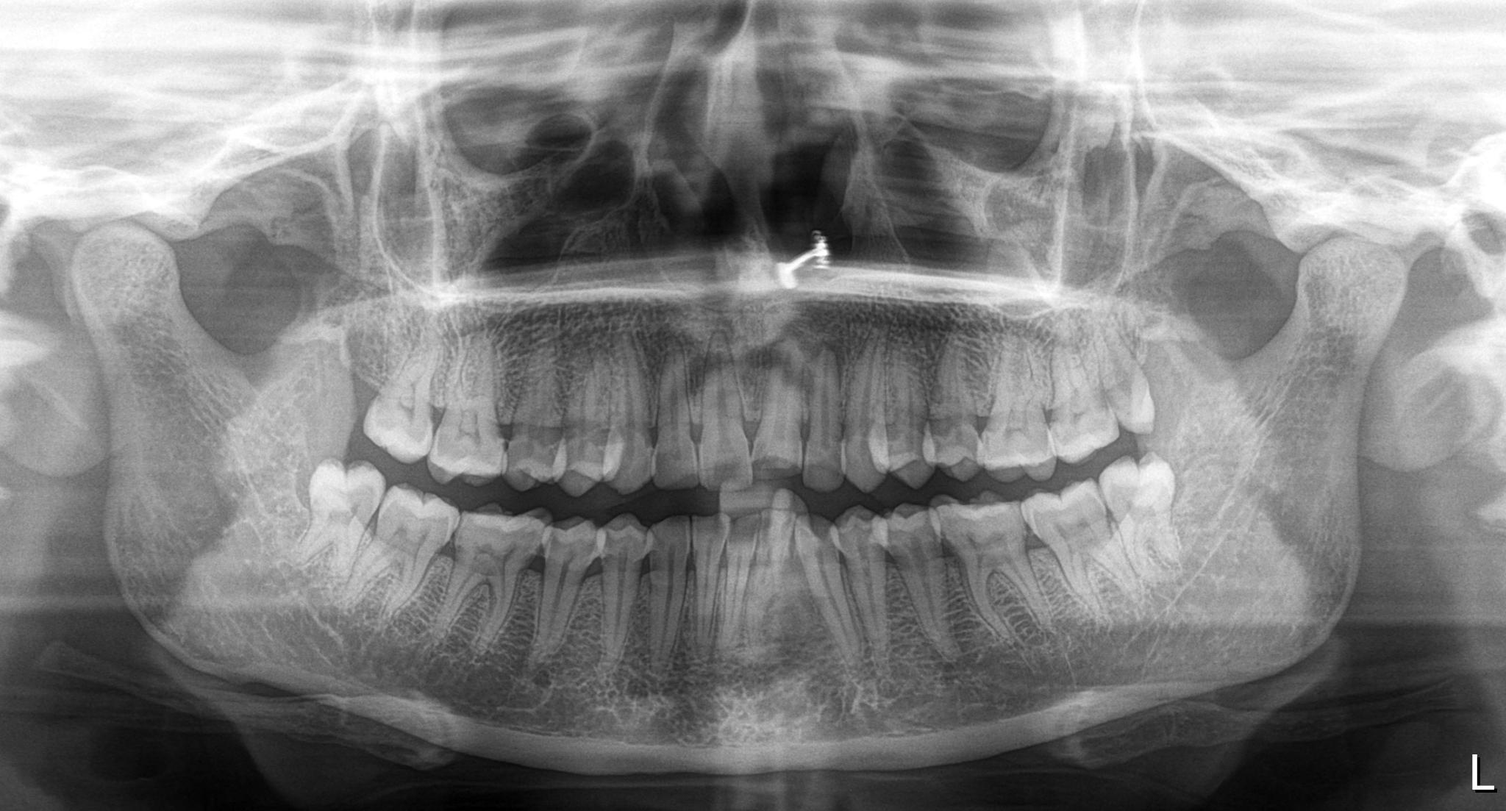Periodontal Pocket: (254, 441, 379, 603), (1088, 460, 1186, 579)
